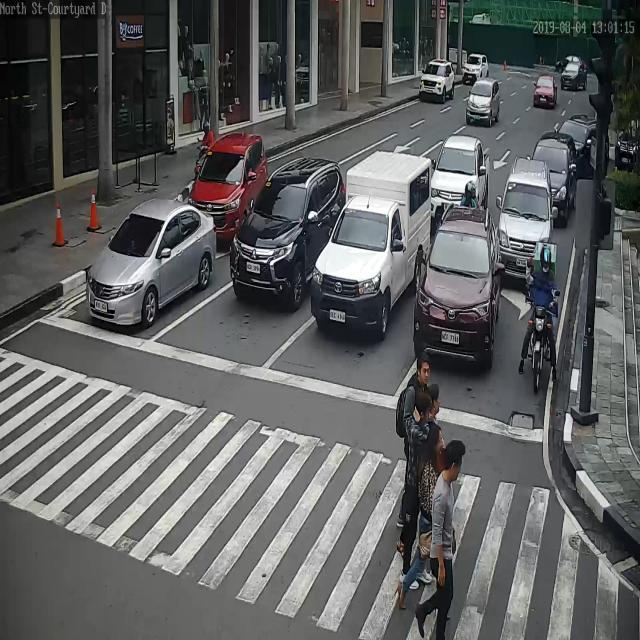car: (231, 158, 347, 311), (87, 201, 217, 331), (415, 216, 500, 372), (186, 132, 268, 241), (494, 160, 557, 276), (429, 136, 488, 234), (557, 114, 610, 176), (531, 134, 575, 202), (467, 81, 501, 129), (419, 59, 455, 103), (614, 116, 640, 169), (558, 58, 588, 92), (534, 74, 557, 110), (465, 52, 490, 82)
jeepney: (525, 238, 560, 392), (194, 118, 214, 185), (460, 180, 485, 209)
van: (310, 150, 431, 339)
